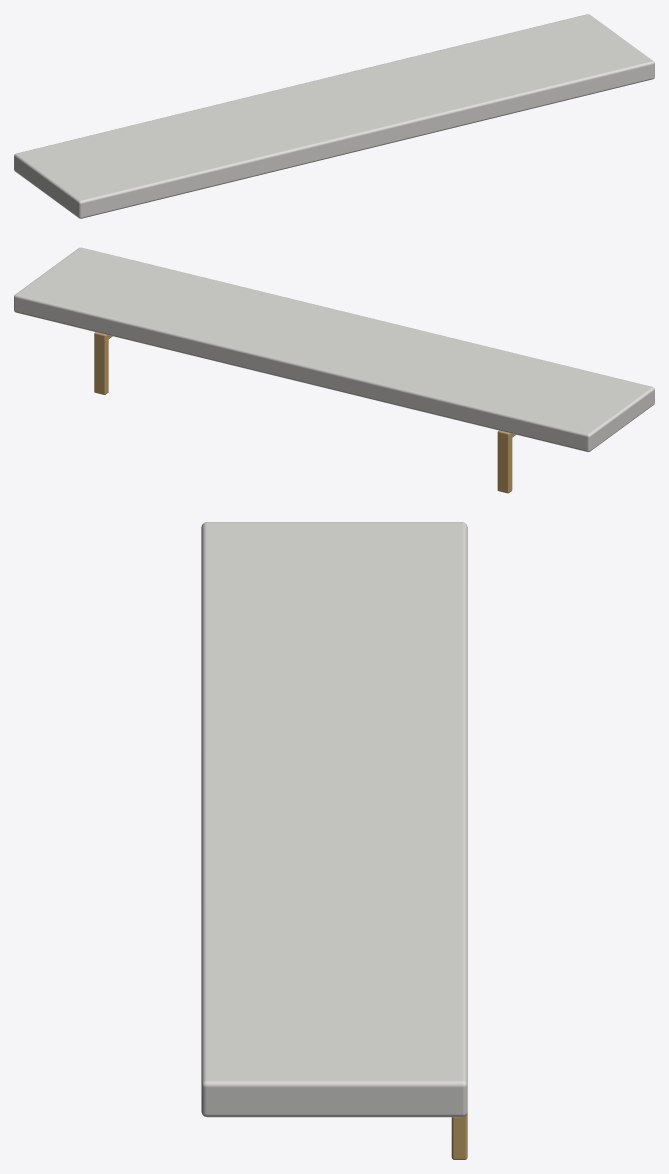
Rendered from wall_shelf.glb.
3 views of the same model, one above another, from view 1: azimuth 30°, elevation 25°; view 2: azimuth 150°, elevation 25°; view 3: azimuth 270°, elevation 25° (orthographic). The views are drawn at different scales.
Visible parts, largest first — view 1: wall_shelf_board; view 2: wall_shelf_board, wall_shelf_brackets; view 3: wall_shelf_board.
Part boxes in pixels (<box>): wall_shelf_board: <box>14,14,654,218</box>; wall_shelf_board: <box>14,247,654,451</box>; wall_shelf_brackets: <box>94,332,515,493</box>; wall_shelf_board: <box>201,522,467,1117</box>.
Size of the model in its own units: 1 by 0.13 by 0.2.
